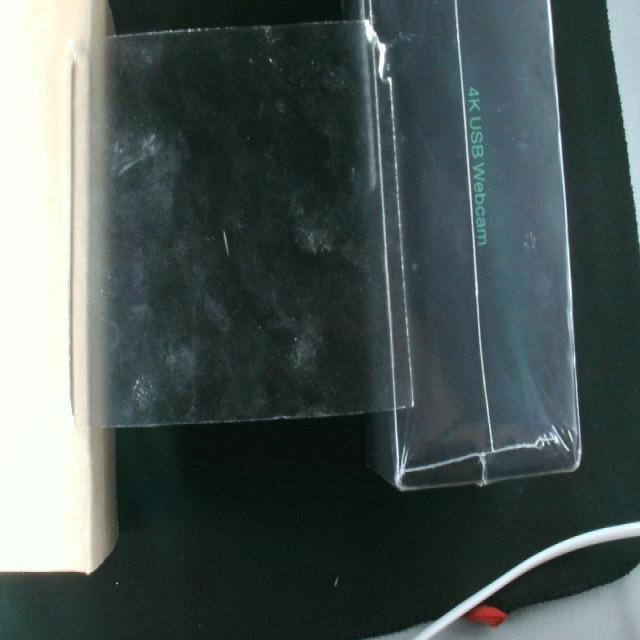edge_chip: (362, 7, 398, 96)
scratch: (218, 222, 238, 260)
